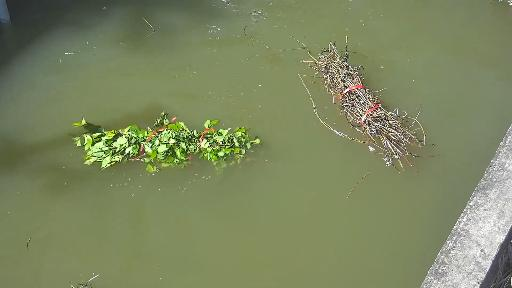twig: (290, 24, 422, 174), (69, 115, 302, 181)
